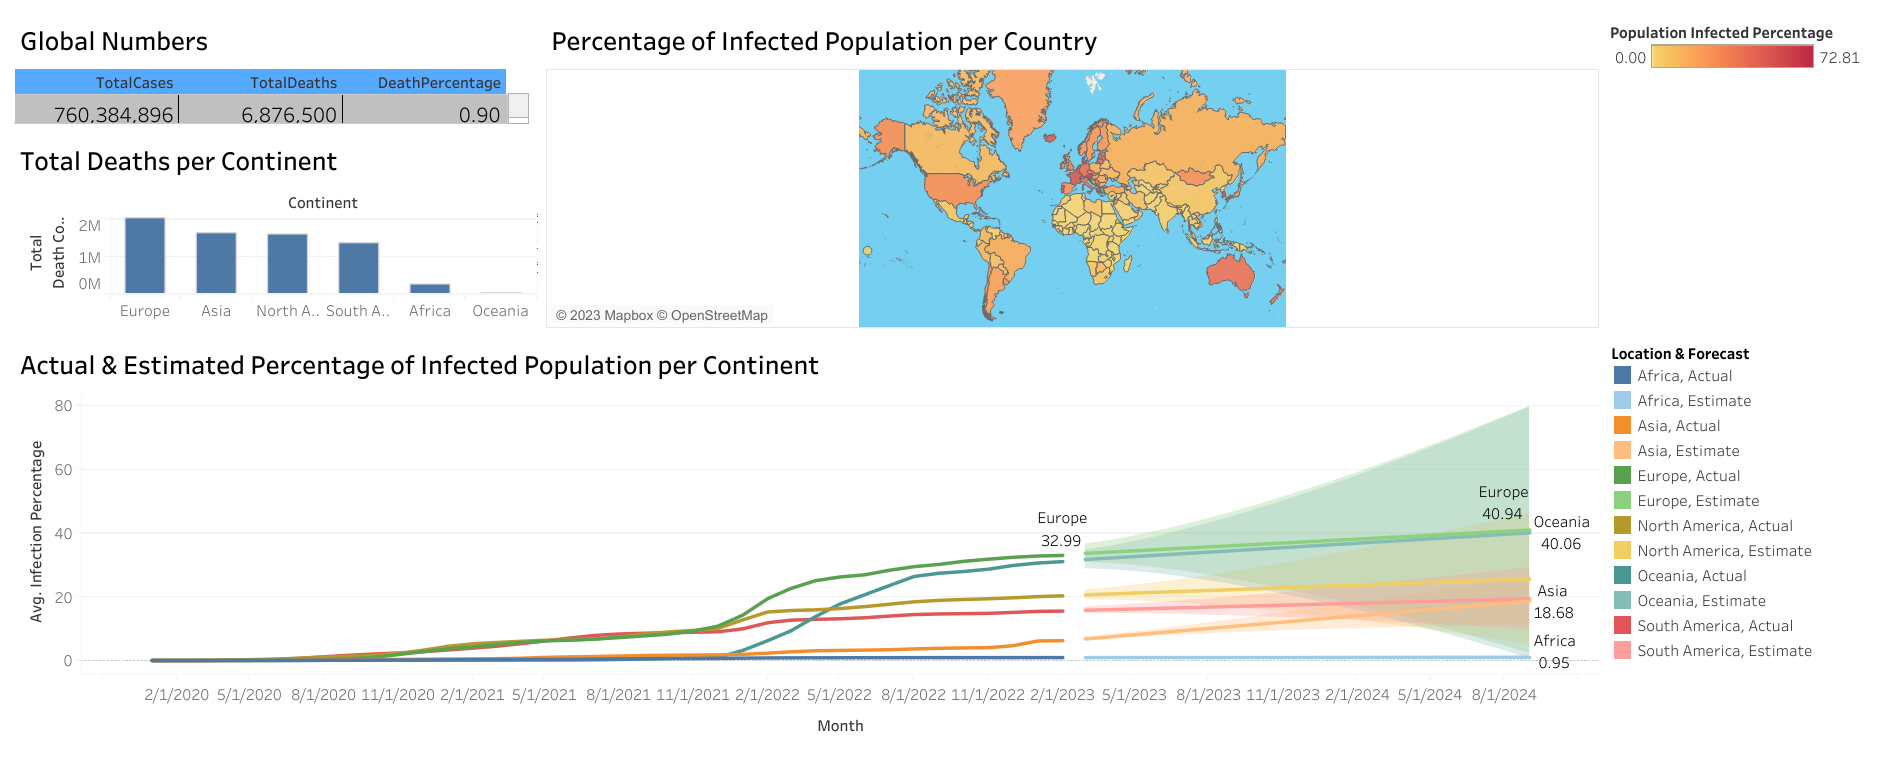

The page's visual inventory and layout, read from the dashboard file:
{"tool":"tableau","page":{"name":"Covid Stats","canvas":[1000,1000],"units":"permille","ordinal":0},"visuals":[{"type":"worksheet","title":"Table","mark":"Automatic","box":[4.8,9.3,282.4,159.1]},{"type":"worksheet","title":"Global Map","mark":"Automatic","box":[287.3,9.3,566.1,428.6]},{"type":"legend","title":"Global Map","param":"[federated.0jh8qaw0gxmwi615u0tmo0lmxow2].[sum:PopulationInfectedPercentage:qk]","box":[853.4,9.3,141.8,428.6]},{"type":"worksheet","title":"Bar Chart","mark":"Automatic","rows":["TotalDeathCount"],"cols":["Location"],"box":[4.8,168.4,282.4,269.4]},{"type":"worksheet","title":"Line Graph","mark":"Automatic","rows":["PopulationInfectedPercentage"],"cols":["Date"],"box":[4.8,437.9,848.5,552.9]},{"type":"legend","title":"Line Graph","param":"[federated.0acw0p80mj8rbi16vi1my03evz8f].[none:Location:nk]\n[federated.0acw0p80m","box":[853.4,437.9,141.8,552.9]}]}

Visuals, with their boxes on the dashboard's canvas, which has no fixed pixel size, in thousandths of its width and height (x1, y1, x2, y2). These are canvas units, not pixel positions in the 1880x759 screenshot, which may show the page scaled, cropped or inside an application window:
"Table" worksheet: 5:9:287:168
"Global Map" worksheet: 287:9:853:438
"Global Map" legend: 853:9:995:438
"Bar Chart" worksheet: 5:168:287:438
"Line Graph" worksheet: 5:438:853:991
"Line Graph" legend: 853:438:995:991
